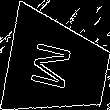M_E: (32, 39, 83, 95)
